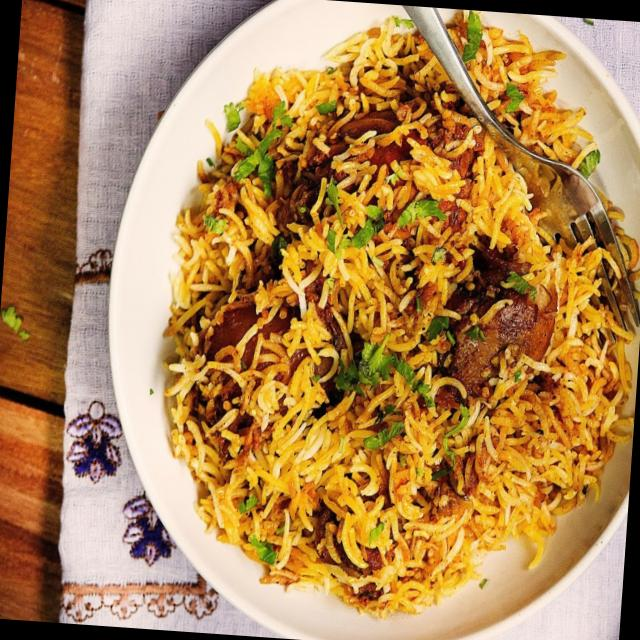Biryani: (143, 0, 640, 638)
